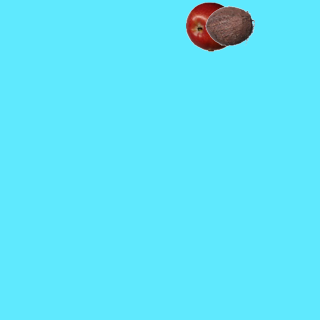Apple Braeburn: (185, 1, 235, 51)
Cocos: (204, 0, 254, 50)
